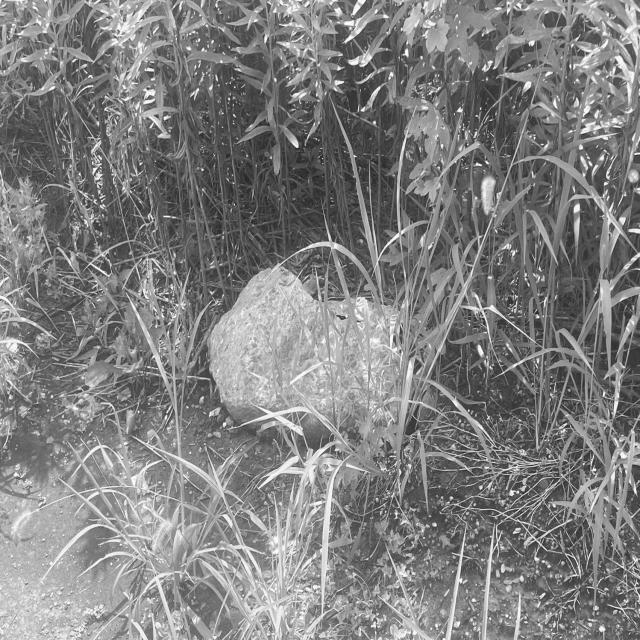Stone: (208, 268, 392, 420)
